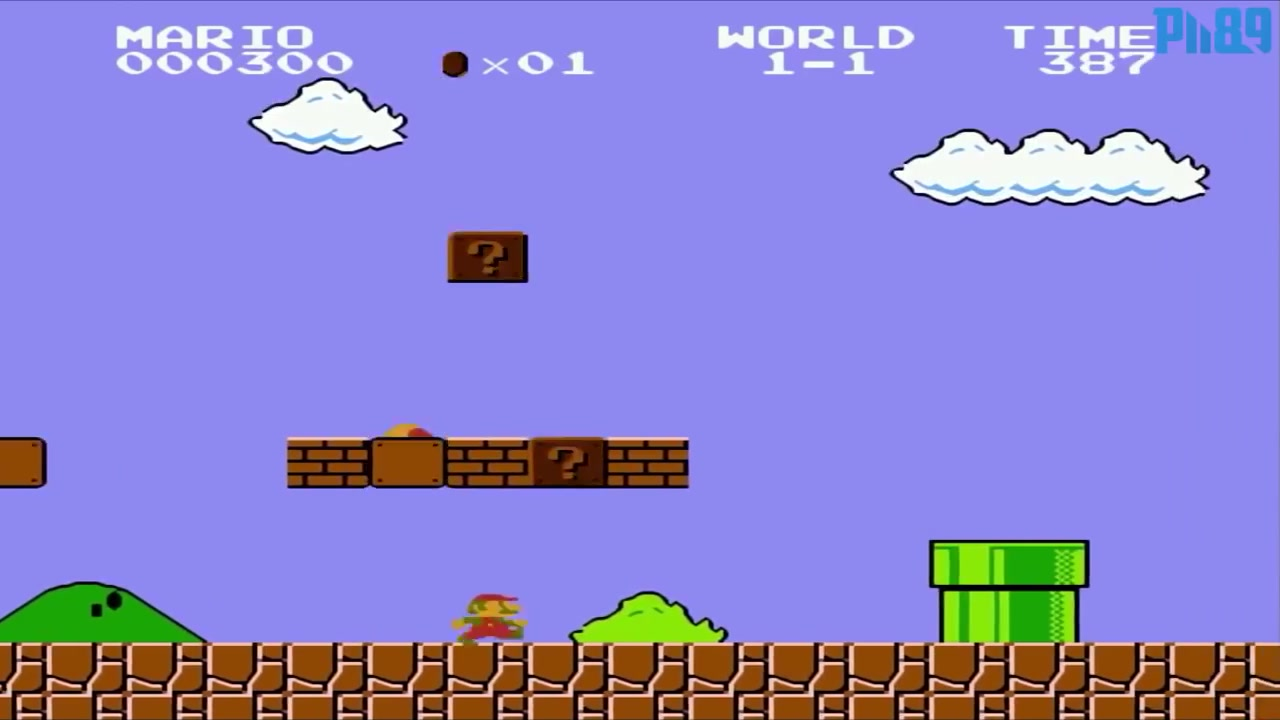mario: (440, 581, 529, 643)
